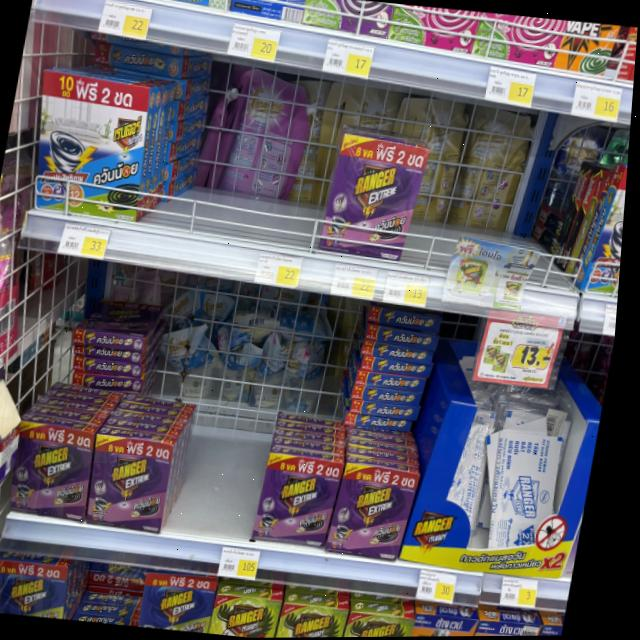empty_shelf: (132, 48, 354, 251), (399, 94, 616, 292), (160, 278, 306, 544), (25, 252, 207, 443), (272, 292, 463, 469), (68, 564, 144, 626)
